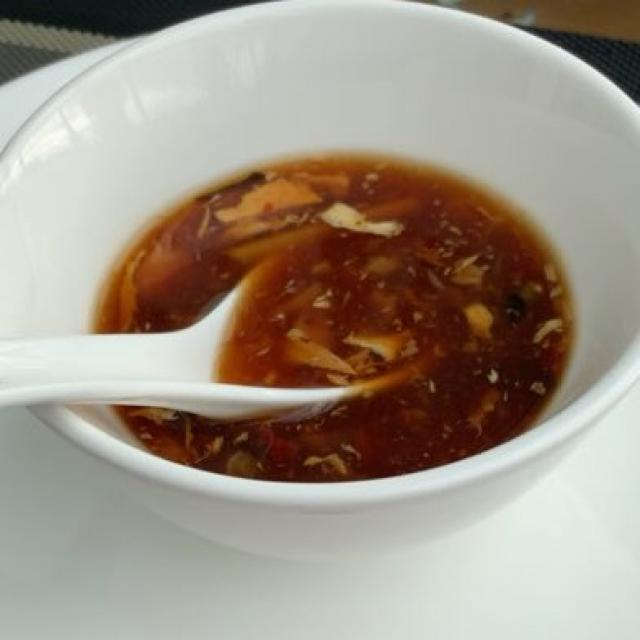bouillon: (95, 153, 585, 471)
